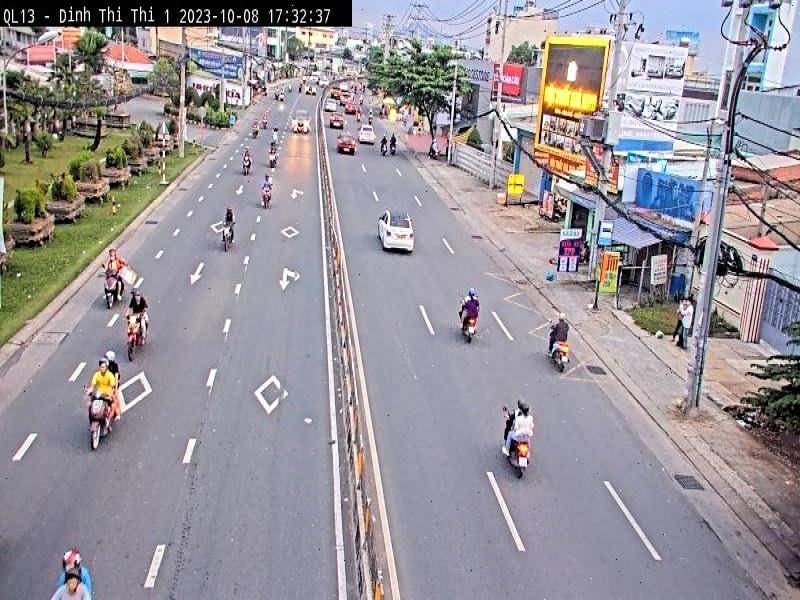car: (378, 211, 418, 255)
motorcycle: (120, 312, 149, 362), (88, 398, 114, 451), (95, 273, 132, 308)
